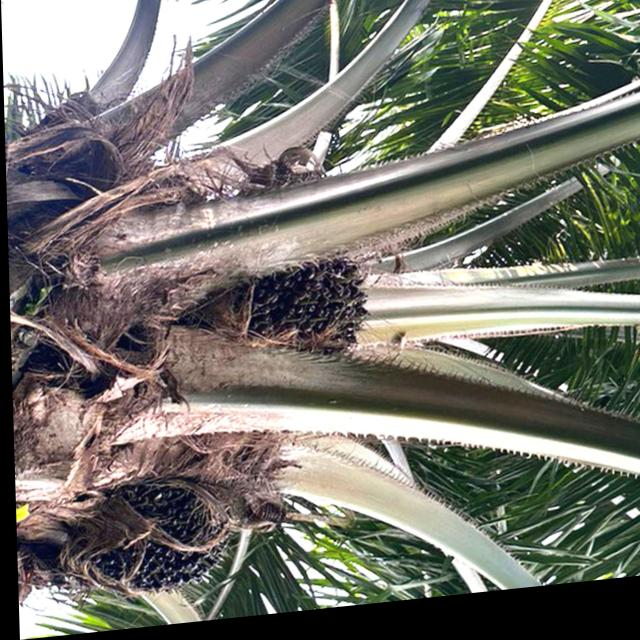ripe: (235, 241, 372, 376), (84, 479, 228, 601)
